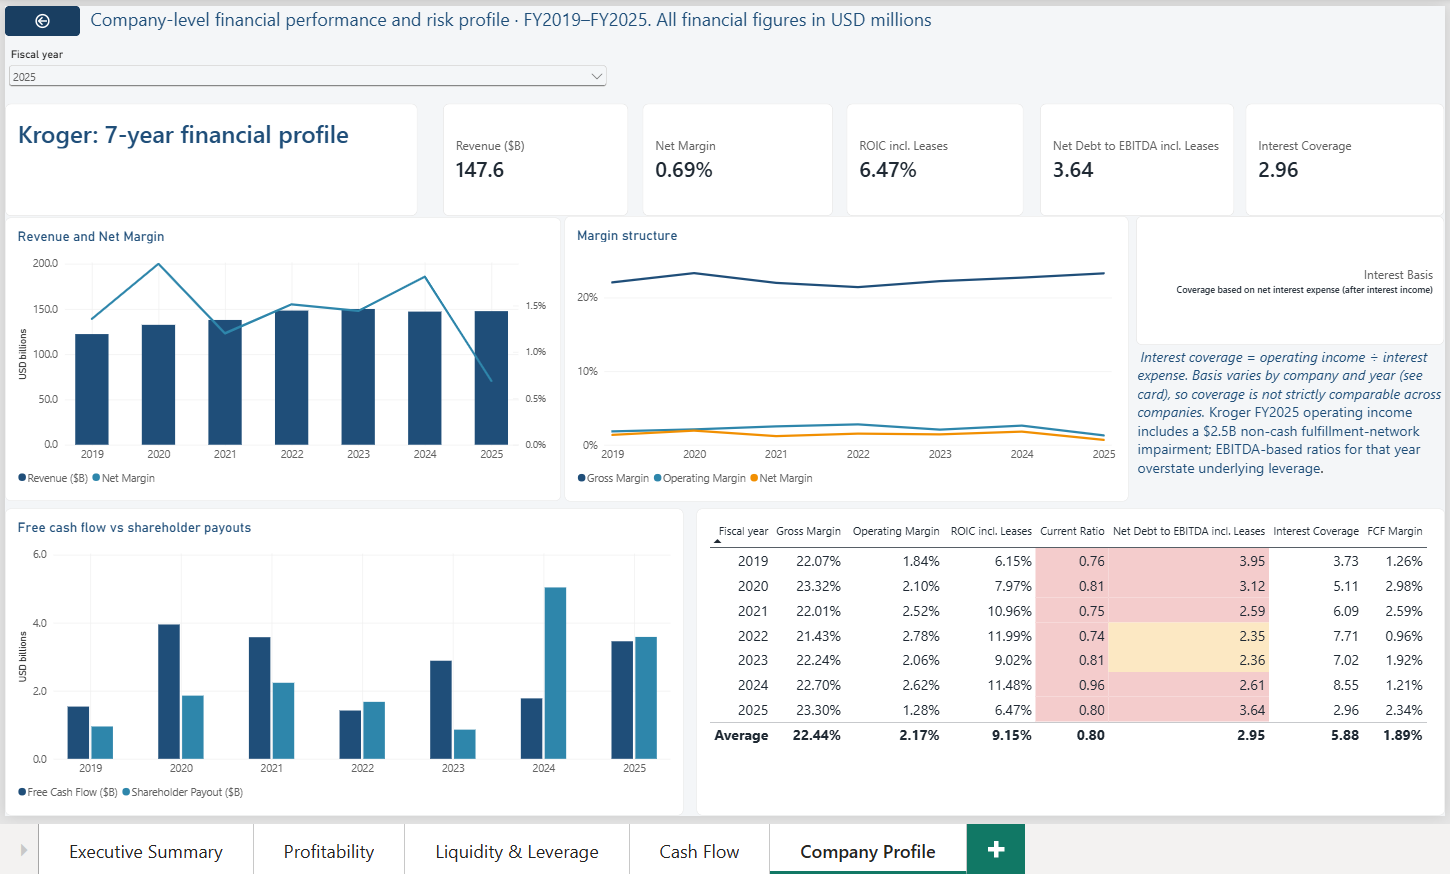

The dashboard page shown, as its layout file describes it:
{"tool":"powerbi","page":{"name":"Company Profile","canvas":[1920,1080],"ordinal":4},"visuals":[{"type":"textbox","box":[113.6,0,1140.9,56.8],"z":0},{"type":"slicer","fields":{"Values":["analytics v_ratios.fiscal_year"]},"box":[0,56.8,806.8,72.7],"z":1000},{"type":"actionButton","box":[0,0,100,40],"z":2000},{"type":"cardVisual","fields":{"Data":["analytics companies.Company Title"]},"box":[0,129.5,550,150],"z":3000},{"type":"cardVisual","fields":{"Data":["analytics v_ratios.Revenue ($B)"]},"box":[584.1,129.5,247.7,150],"z":4000},{"type":"cardVisual","fields":{"Data":["analytics v_ratios.Net Margin"]},"box":[850,129.5,254.5,150],"z":5000},{"type":"cardVisual","fields":{"Data":["analytics v_ratios.ROIC incl. Leases"]},"box":[1122.7,129.5,236.4,150],"z":6000},{"type":"cardVisual","fields":{"Data":["analytics v_ratios.Net Debt to EBITDA incl. Leases"]},"box":[1379.5,129.5,259.1,150],"z":7000},{"type":"cardVisual","fields":{"Data":["analytics v_ratios.Interest Coverage"]},"box":[1654.5,129.5,265.9,150],"z":8000},{"type":"cardVisual","fields":{"Data":["analytics companies.Interest Basis"]},"box":[1508.9,279.9,411.1,172.8],"z":9000},{"type":"lineClusteredColumnComboChart","title":"Revenue and Net Margin","fields":{"Category":["analytics v_ratios.fiscal_year"],"Y":["analytics v_ratios.Revenue ($B)"],"Y2":["analytics v_ratios.Net Margin"]},"box":[0,282.1,741.3,378.3],"z":10000},{"type":"lineChart","title":"Margin structure","fields":{"Category":["analytics v_ratios.fiscal_year"],"Y":["analytics v_ratios.Gross Margin","analytics v_ratios.Operating Margin","analytics v_ratios.Net Margin"]},"box":[745.7,280,752.3,380.5],"z":11000},{"type":"clusteredColumnChart","title":"Free cash flow vs shareholder payouts","fields":{"Category":["analytics v_ratios.fiscal_year"],"Y":["analytics v_ratios.Free Cash Flow ($B)","analytics v_ratios.Shareholder Payout ($B)"]},"box":[0,670.5,904.5,409.1],"z":12000},{"type":"tableEx","fields":{"Values":["analytics v_ratios.fiscal_year","analytics v_ratios.Gross Margin","analytics v_ratios.Operating Margin","analytics v_ratios.ROIC incl. Leases","analytics v_ratios.Current Ratio","analytics v_ratios.Net Debt to EBITDA incl. Leases","analytics v_ratios.Interest Coverage","analytics v_ratios.FCF Margin"]},"box":[922,670,997.7,409.1],"z":13000},{"type":"textbox","box":[1509,453,411,210],"z":14000}]}

Visuals, with their boxes on the page's 1920x1080 design canvas (x1, y1, x2, y2). These are canvas units, not pixel positions in the 1450x874 screenshot, which may show the page scaled, cropped or inside an application window:
textbox: select_region(114, 0, 1254, 57)
slicer - analytics v_ratios.fiscal_year: select_region(0, 57, 807, 130)
actionButton: select_region(0, 0, 100, 40)
cardVisual - analytics companies.Company Title: select_region(0, 130, 550, 280)
cardVisual - analytics v_ratios.Revenue ($B): select_region(584, 130, 832, 280)
cardVisual - analytics v_ratios.Net Margin: select_region(850, 130, 1104, 280)
cardVisual - analytics v_ratios.ROIC incl. Leases: select_region(1123, 130, 1359, 280)
cardVisual - analytics v_ratios.Net Debt to EBITDA incl. Leases: select_region(1380, 130, 1639, 280)
cardVisual - analytics v_ratios.Interest Coverage: select_region(1654, 130, 1920, 280)
cardVisual - analytics companies.Interest Basis: select_region(1509, 280, 1920, 453)
"Revenue and Net Margin" lineClusteredColumnComboChart: select_region(0, 282, 741, 660)
"Margin structure" lineChart: select_region(746, 280, 1498, 660)
"Free cash flow vs shareholder payouts" clusteredColumnChart: select_region(0, 670, 904, 1080)
tableEx - analytics v_ratios.fiscal_year x analytics v_ratios.Gross Margin: select_region(922, 670, 1920, 1079)
textbox: select_region(1509, 453, 1920, 663)
